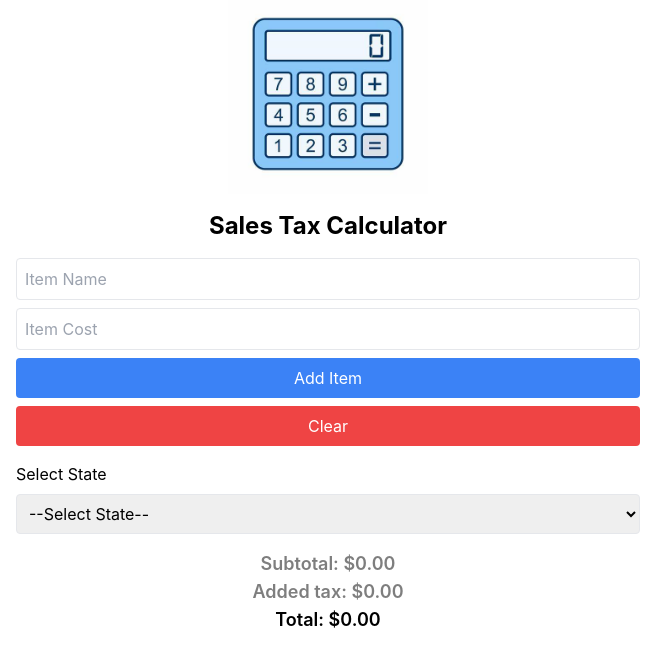
Test: App › updates total when adding new item and selecting state
Type "Apple" into the field with placeholder "Item Name".
click(328, 279); type("Apple")  # box [16,258,640,300]
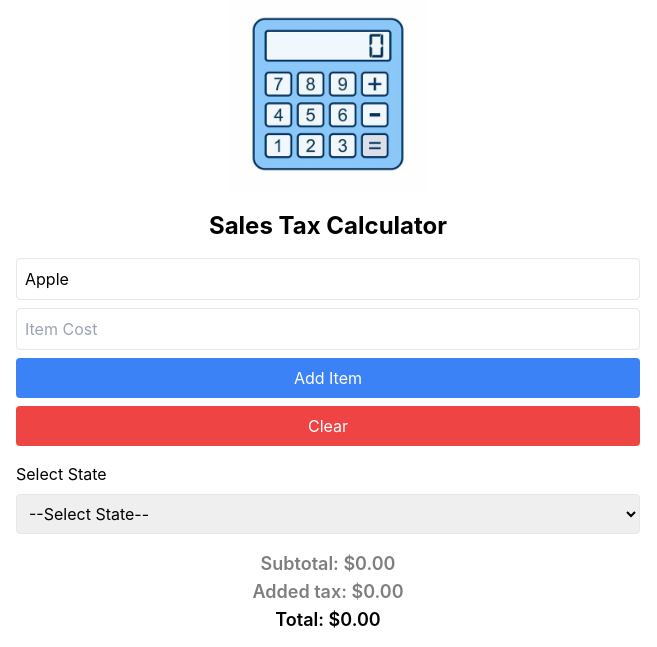
Type "100" into the number field with placeholder "Item Cost".
click(328, 329); type("100")  # box [16,308,640,350]
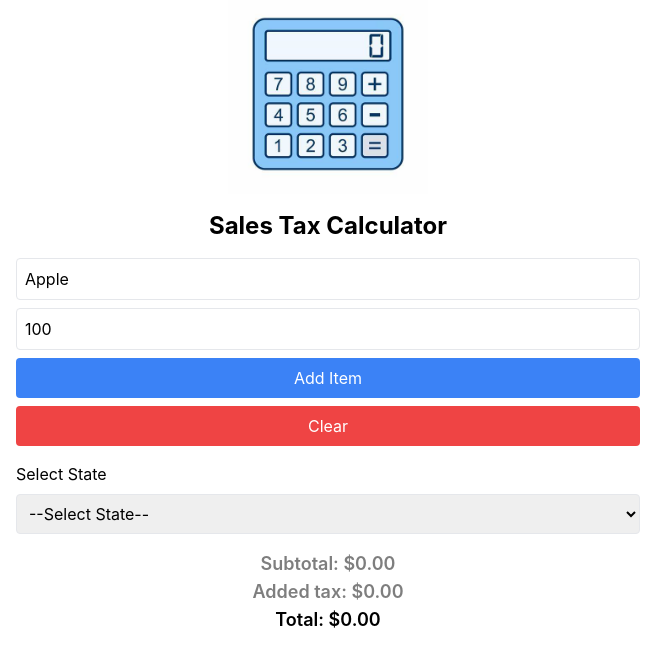
Click the button "Add Item".
click(328, 378)  # box [16,358,640,398]
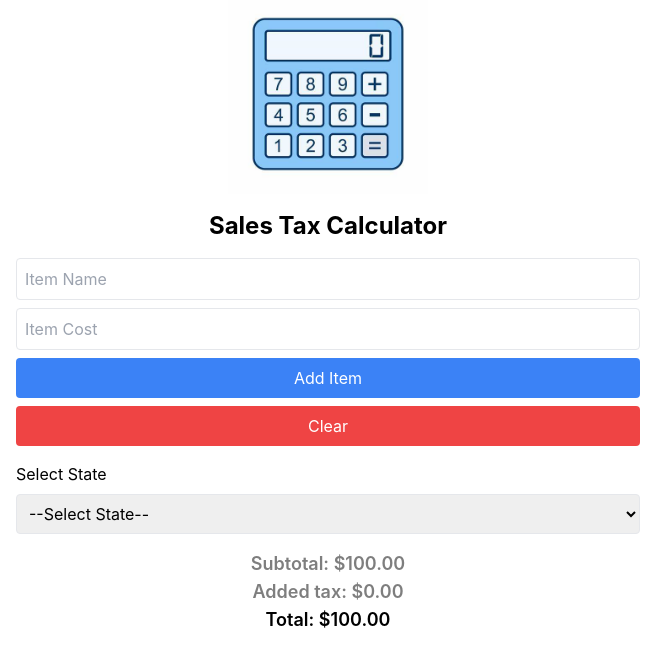
Select "California" in the dropdown labelled "Select State" at [328, 514], box [16,494,640,534]
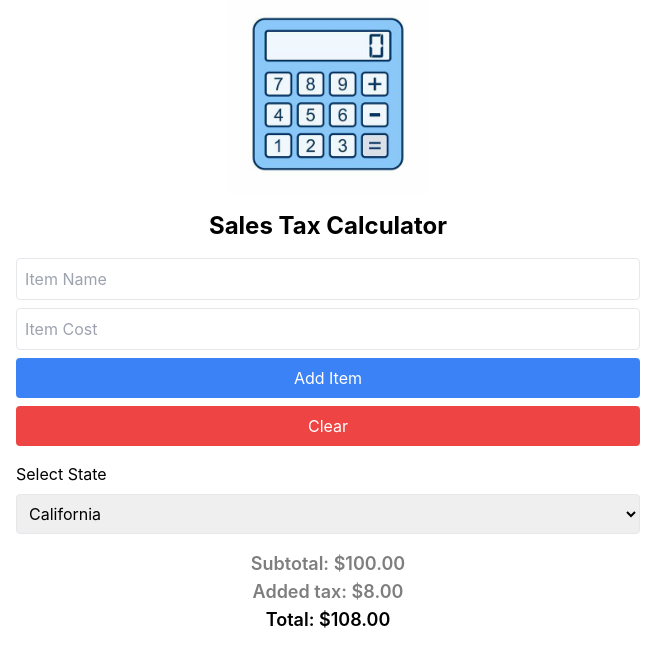
Check: the text "Subtotal: $100.00" is shown, box [251,553,405,574]
Check: the text "Added tax: $8.00" is shown, box [253,581,403,602]
Check: the heading "Total: $108.00" is shown, box [266,609,390,630]
